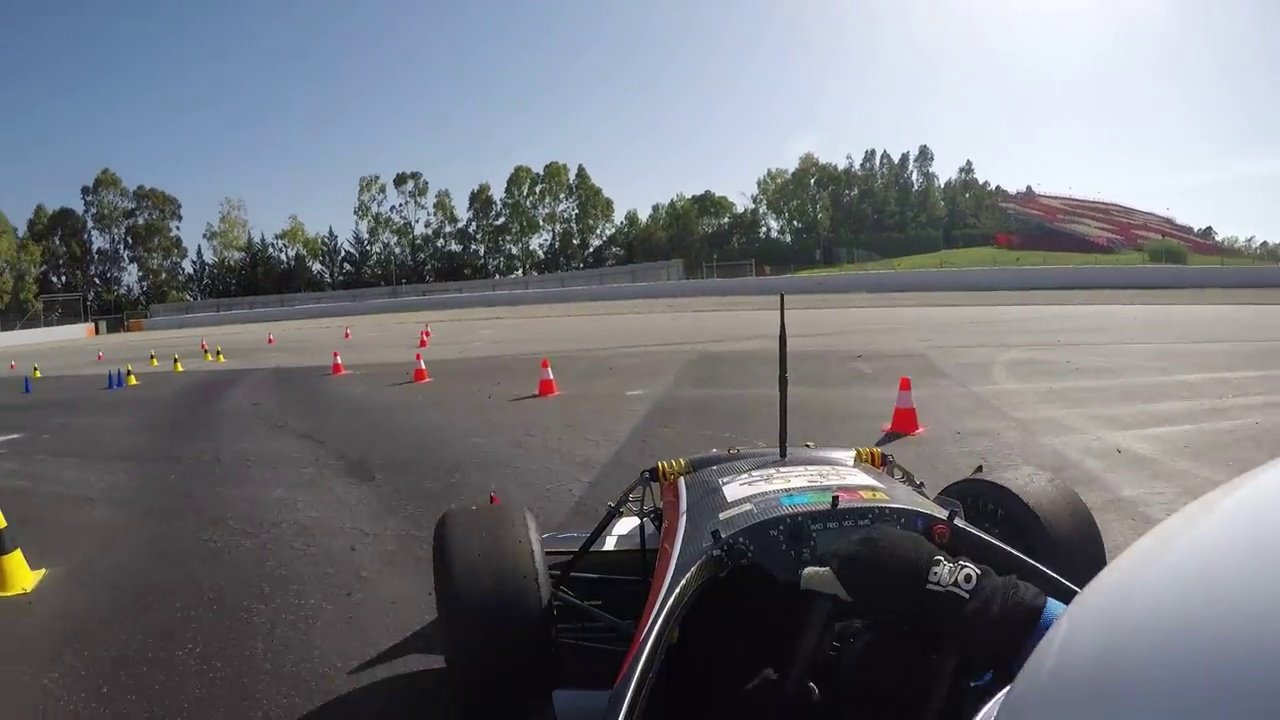Cone: (1, 509, 49, 599), (885, 373, 923, 434), (535, 359, 563, 399), (412, 350, 431, 382)
